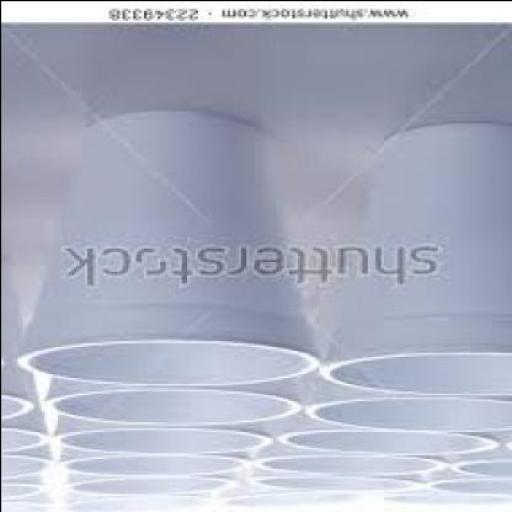paper: (22, 100, 323, 388), (322, 127, 511, 400), (51, 368, 305, 426), (312, 371, 510, 438), (62, 412, 280, 454), (285, 414, 501, 456), (259, 441, 447, 475), (2, 259, 36, 423), (256, 465, 426, 495), (57, 451, 256, 475), (2, 362, 56, 448), (67, 471, 237, 495), (230, 486, 387, 511), (62, 488, 219, 510), (391, 486, 511, 508), (2, 437, 56, 481), (433, 469, 511, 498), (2, 466, 56, 500), (455, 454, 511, 480), (2, 490, 66, 511), (496, 437, 511, 453)
